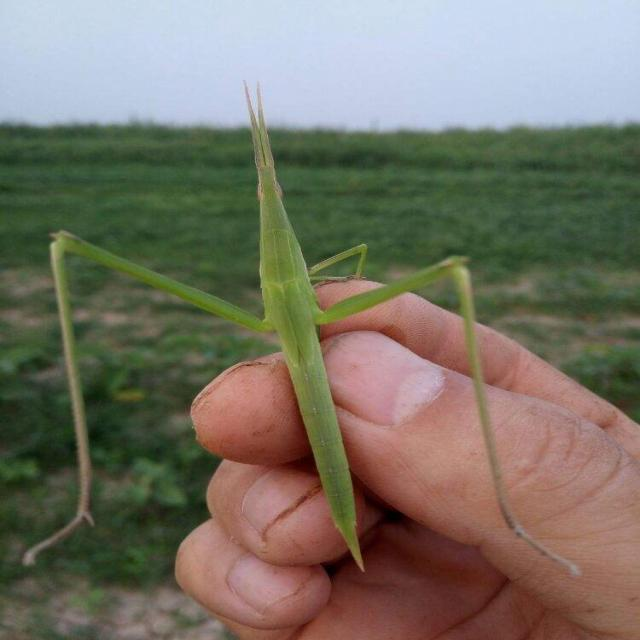ZhaMeng: (31, 67, 588, 585)
